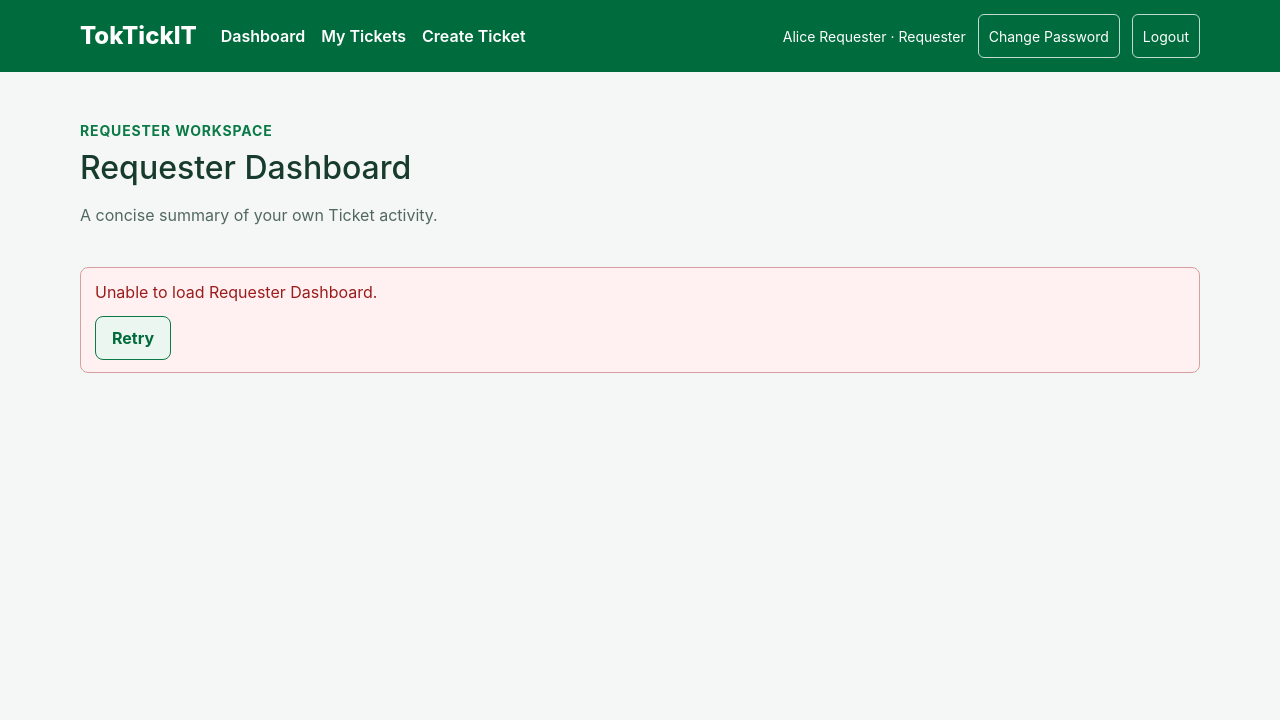
Test: Lab 4 Requester Dashboard UI › provides safe failure retry and explicit empty state
The width and height of the screenshot is (1280, 720).
Expected: the message shows "Unable to load Requester Dashboard", top-left (95, 282), bottom-right (377, 302)
Click the button "Retry". click: (133, 338)
box: top-left (95, 316), bottom-right (171, 360)
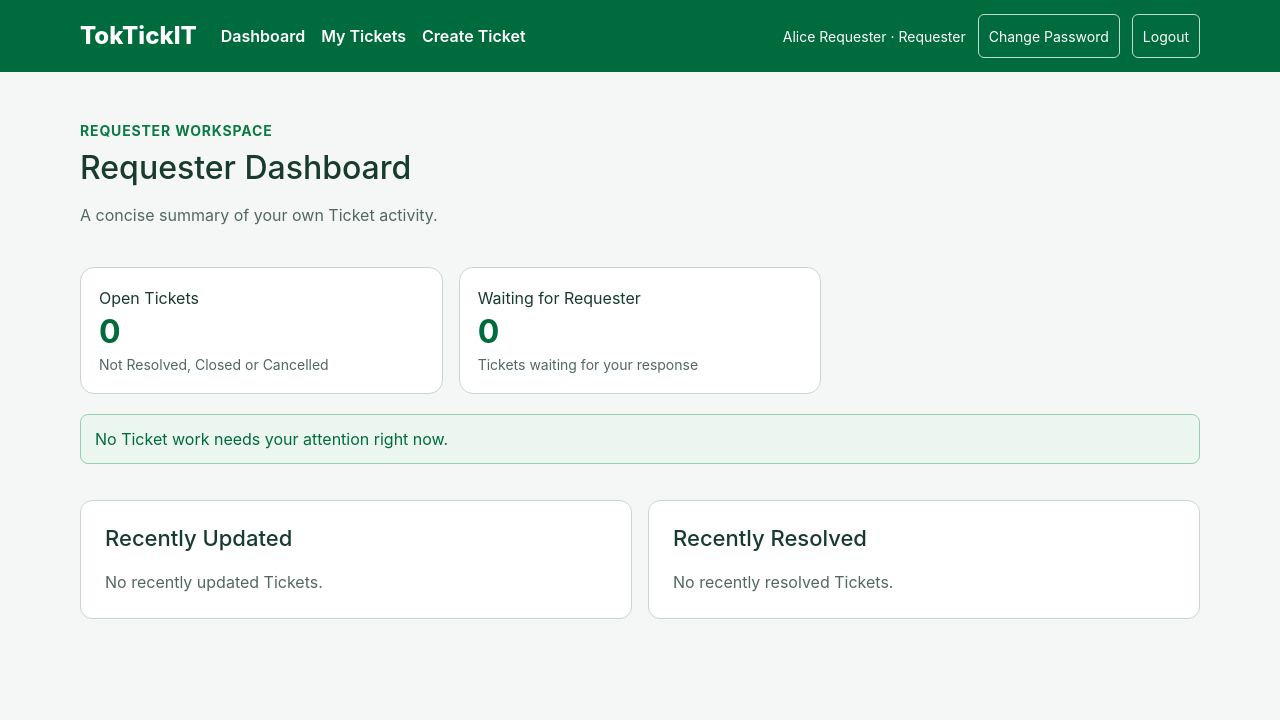
Result: the text "No Ticket work needs your attention right now." is shown at top-left (80, 414), bottom-right (1200, 464)
